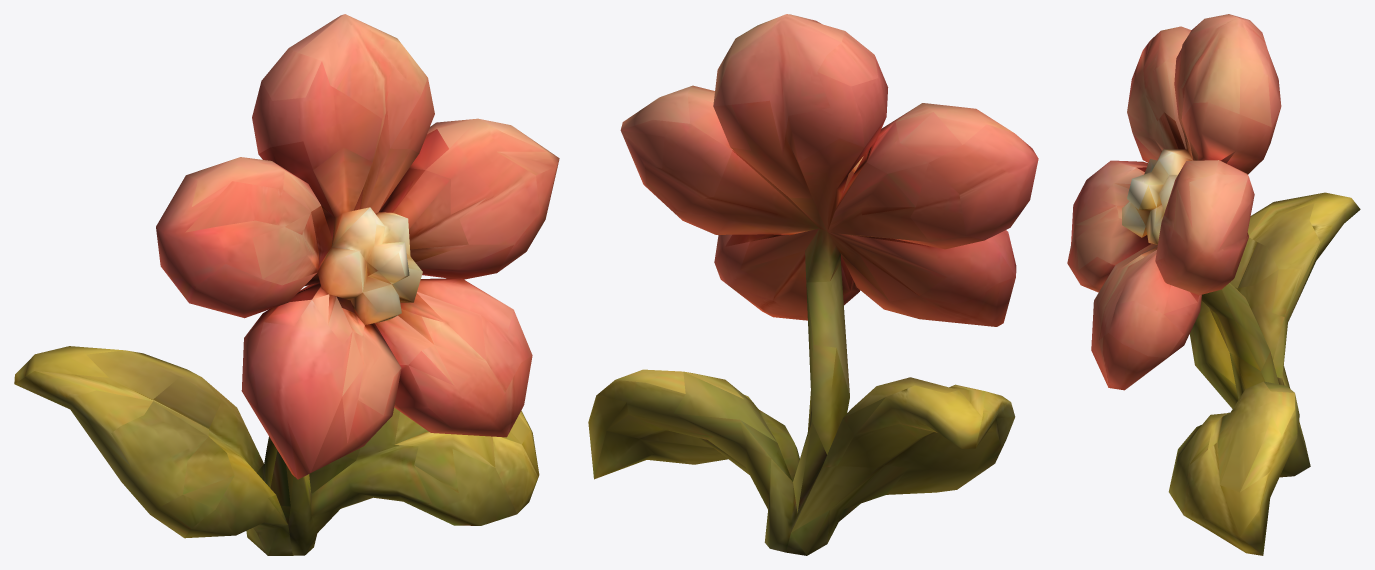
Rendered from flower.glb.
The picture shows the model from 3 angles, left to right: view 1: azimuth 30°, elevation 25°; view 2: azimuth 150°, elevation 25°; view 3: azimuth 270°, elevation 25°; orthographic projection. The views are drawn at different scales.
Parts seen in each view (by area): view 1: tripo_node_e1da8177-60aa-4b68-9c14-83d95e85c980; view 2: tripo_node_e1da8177-60aa-4b68-9c14-83d95e85c980; view 3: tripo_node_e1da8177-60aa-4b68-9c14-83d95e85c980.
Part boxes in pixels (x1,y1,x2,y2): tripo_node_e1da8177-60aa-4b68-9c14-83d95e85c980: (14, 14, 559, 555); tripo_node_e1da8177-60aa-4b68-9c14-83d95e85c980: (588, 14, 1038, 555); tripo_node_e1da8177-60aa-4b68-9c14-83d95e85c980: (1067, 14, 1360, 555).
Bounding box in the file's own units: 0.251 × 0.28 × 0.1594.
1 material, 1 textured.
